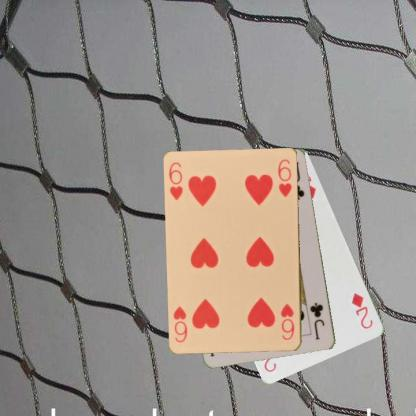2d: (349, 290, 374, 331)
6h: (166, 160, 184, 202), (278, 301, 296, 341)
Jc: (307, 300, 326, 342)
